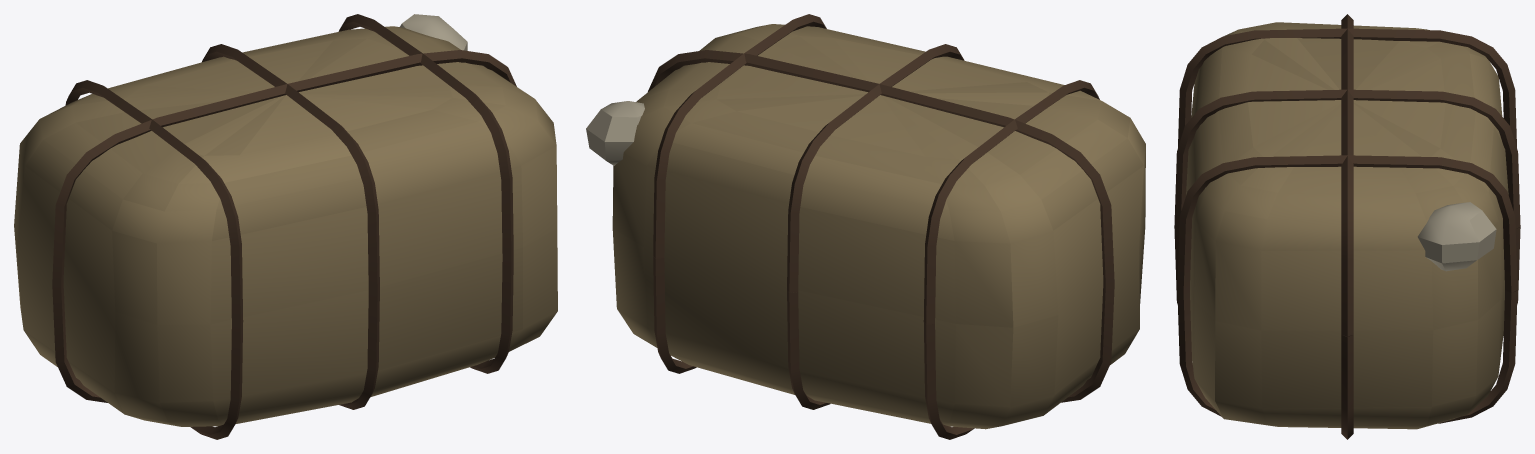
File: fardo.glb
3 views of the same model, side by side, from view 1: azimuth 30°, elevation 25°; view 2: azimuth 150°, elevation 25°; view 3: azimuth 270°, elevation 25° (orthographic). The views are drawn at different scales.
Visible parts, largest first — view 1: Fardo; view 2: Fardo; view 3: Fardo.
Part boxes in pixels (bbox=[...]): Fardo: bbox=[14, 14, 557, 439]; Fardo: bbox=[586, 14, 1145, 439]; Fardo: bbox=[1174, 14, 1520, 439].
Size of what is drawn, in the model's own units: 1 by 0.5829 by 0.6657.
